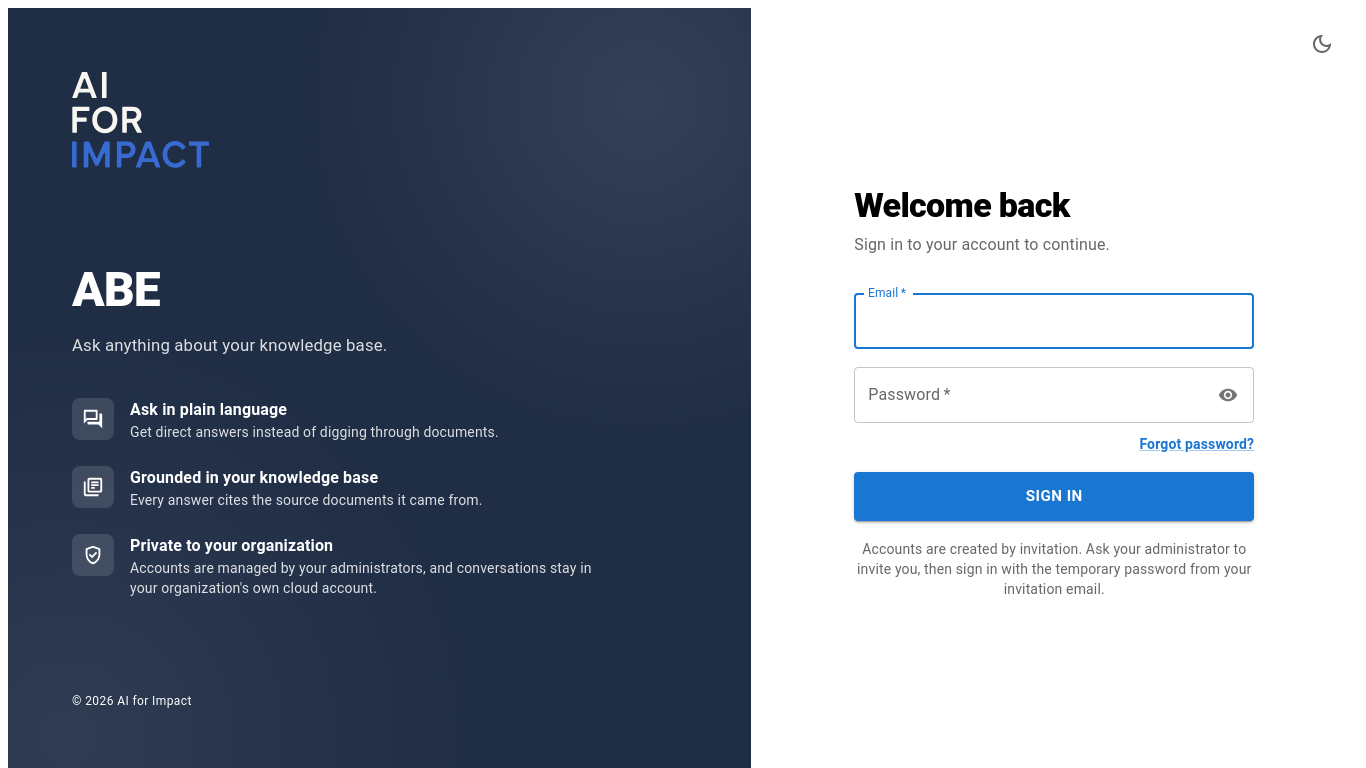
LoginPage › picks TOTP when Cognito asks which MFA method to use
In the field labelled "Email *": (1054, 321) [854,293,1254,349], type "User@Example.com"
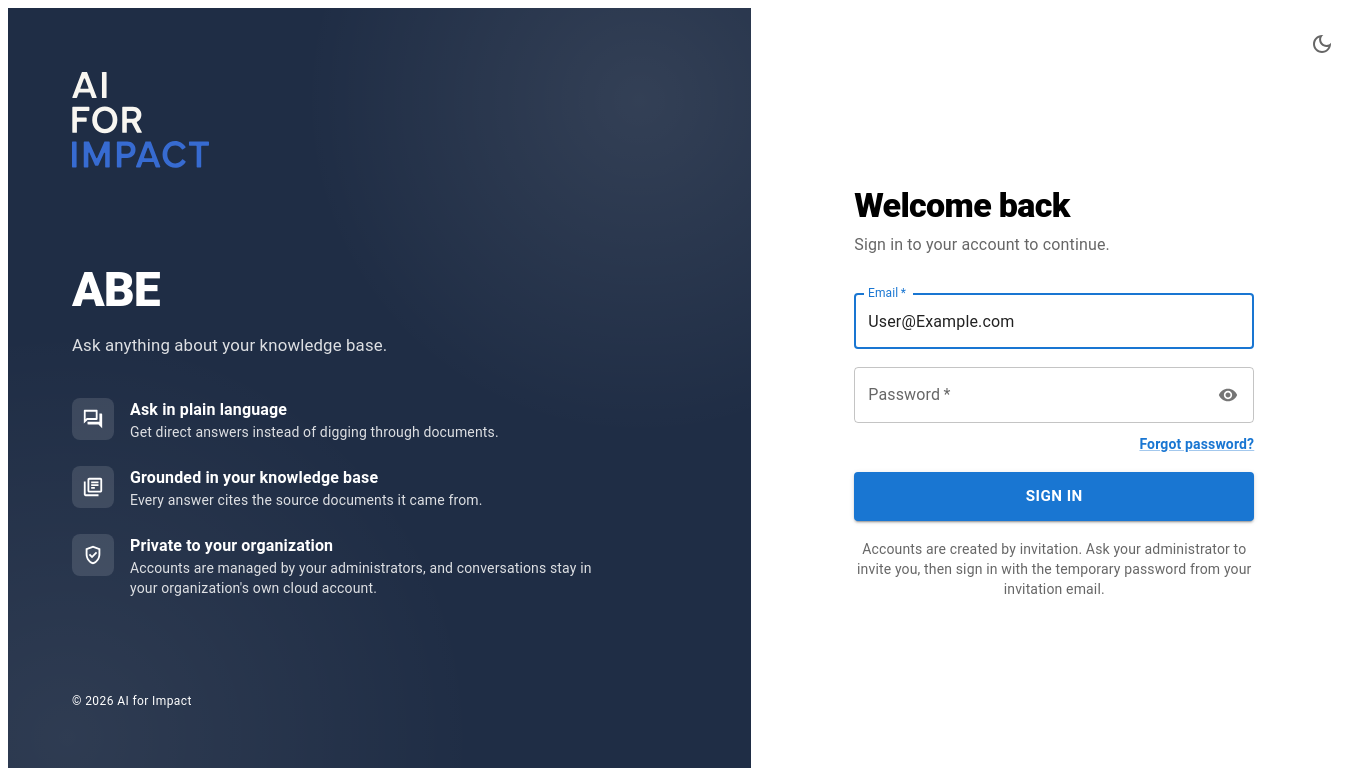
In the password field labelled "Password *": (1030, 395) [854,367,1205,423], type "hunter2hunter2!A"
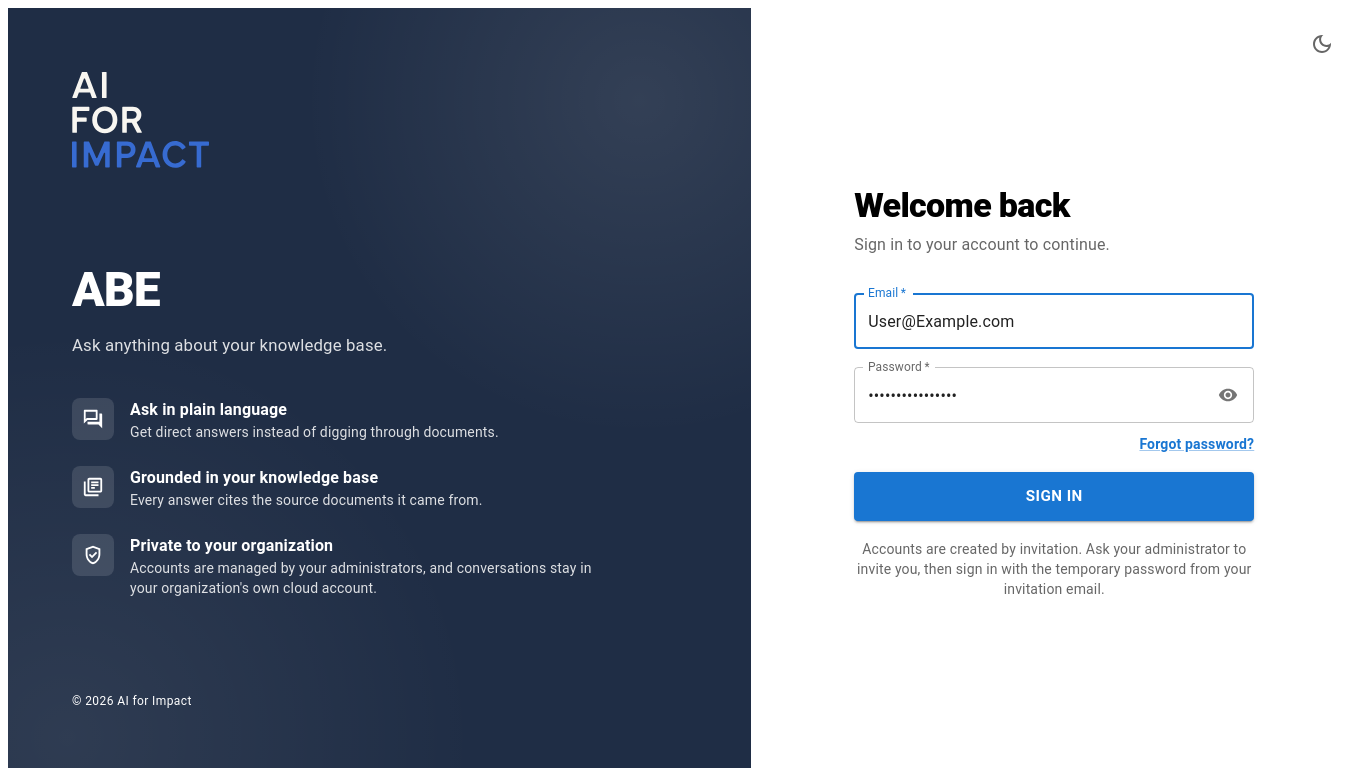
Click the button "Sign in": (1054, 496) [854,472,1254,521]
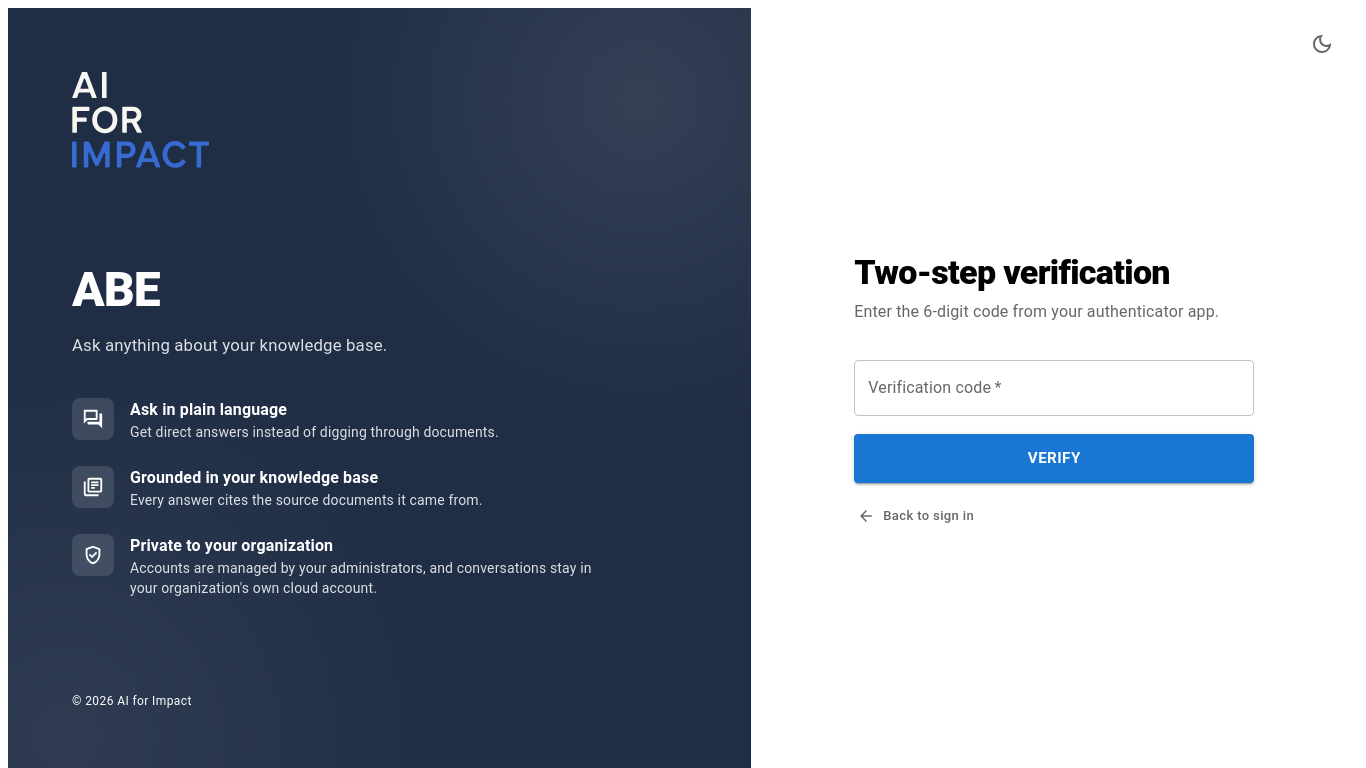
Expected: the text "Enter the 6-digit code from your authenticator app." is shown, [854,300,1254,324]
